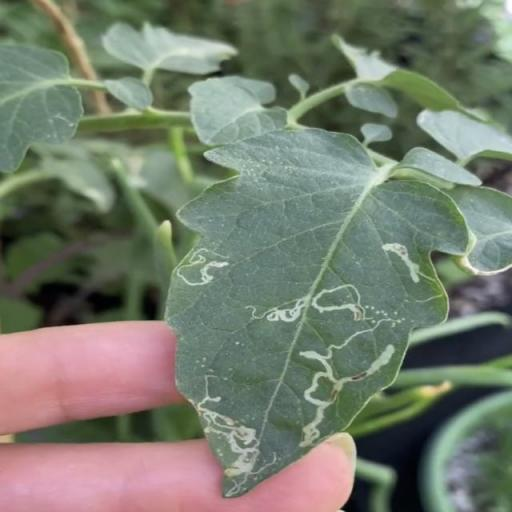disease_tomato: (161, 124, 472, 497)
